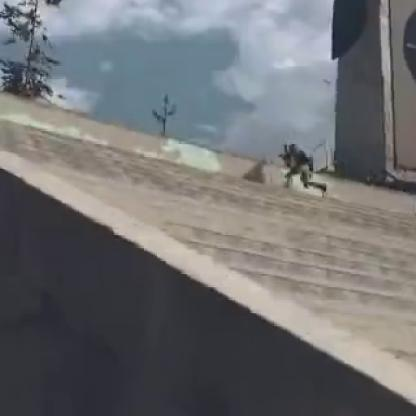enemy: (280, 142, 318, 192)
